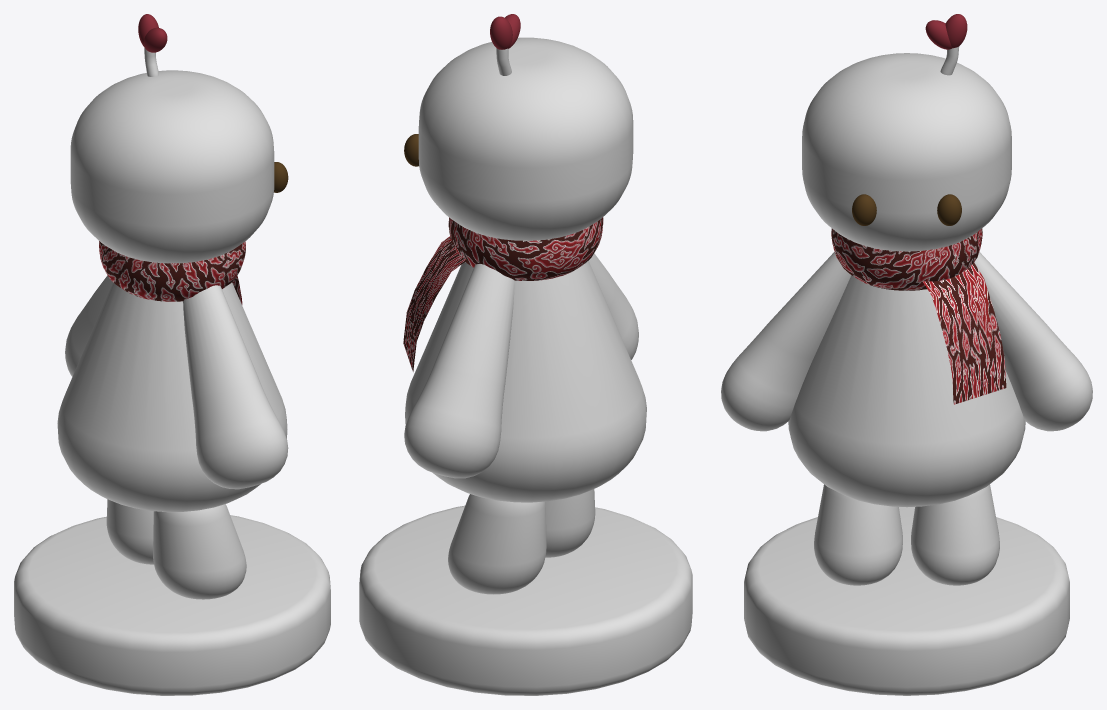
The model's file is 3dmodel.glb.
3 views of the same model, side by side, from view 1: azimuth 30°, elevation 25°; view 2: azimuth 150°, elevation 25°; view 3: azimuth 270°, elevation 25° (orthographic). The views are drawn at different scales.
Parts seen in each view (by area): view 1: Cylinder.016, Cylinder.008, Cylinder.005, Cylinder.006, Cylinder.007, Circle, Sphere.003; view 2: Cylinder.016, Cylinder.008, Cylinder.005, Cylinder.006, Cylinder.007, Circle, Plane, Sphere.003; view 3: Cylinder.016, Cylinder.005, Cylinder.008, Cylinder.006, Cylinder.007, Plane, Circle, Sphere.002, Sphere.003.
Boxes of the visible parts, x1,y1,x2,y2 form: Cylinder.016: (14, 515, 330, 695); Cylinder.008: (70, 70, 274, 263); Cylinder.005: (57, 282, 287, 512); Cylinder.006: (65, 275, 288, 489); Cylinder.007: (106, 499, 246, 599); Circle: (99, 241, 245, 301); Sphere.003: (138, 14, 167, 52); Cylinder.016: (359, 505, 692, 695); Cylinder.008: (418, 37, 633, 240); Cylinder.005: (405, 261, 646, 502); Cylinder.006: (404, 253, 638, 478); Cylinder.007: (448, 489, 595, 594); Circle: (448, 217, 603, 280); Plane: (403, 236, 467, 371); Sphere.003: (490, 14, 520, 49); Cylinder.016: (744, 507, 1069, 695); Cylinder.005: (788, 275, 1025, 507); Cylinder.008: (802, 53, 1011, 251); Cylinder.006: (721, 252, 1092, 431); Cylinder.007: (814, 484, 999, 585); Plane: (923, 262, 1006, 404); Circle: (831, 228, 982, 290); Sphere.002: (852, 194, 961, 225); Sphere.003: (925, 14, 967, 49).
Bounding box in the file's own units: 4.49 × 9.39 × 5.12.
4 materials, 2 textured.
